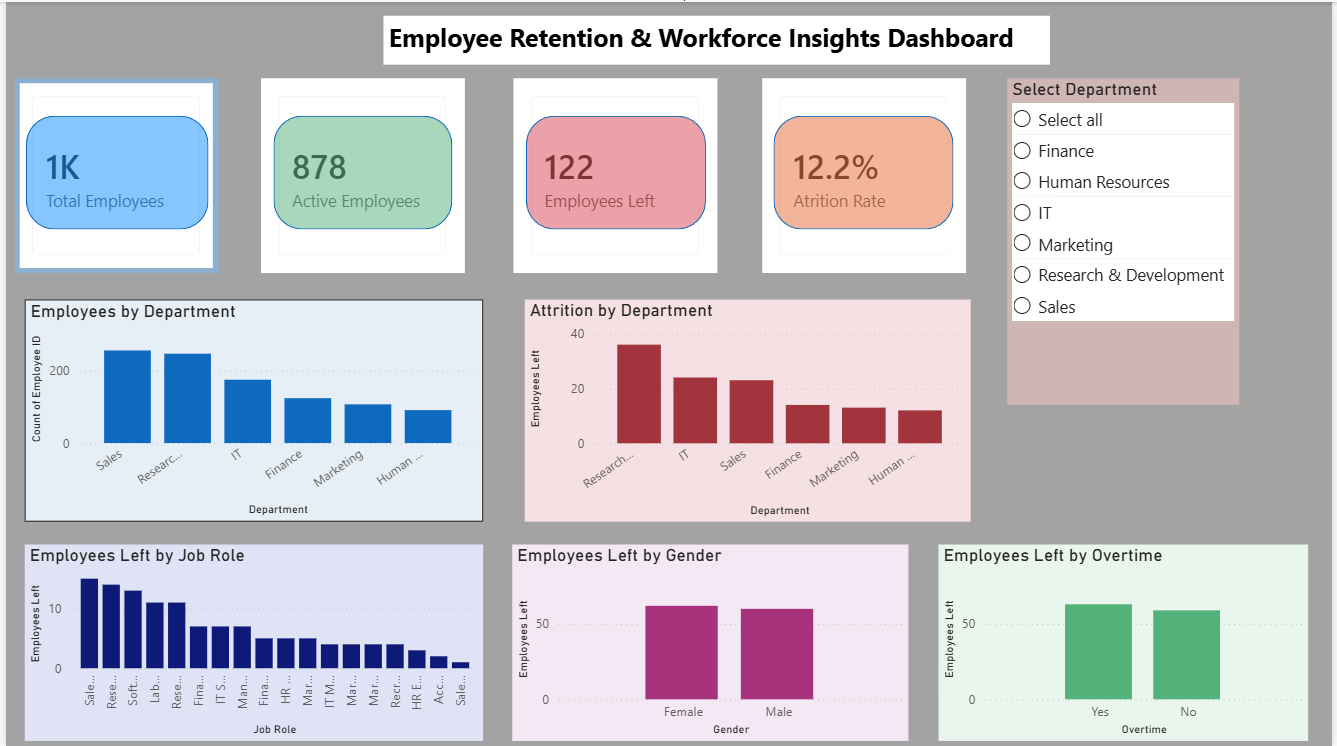

Layout of this report page (visuals, bound fields, positions):
{"tool":"powerbi","page":{"name":"Page 1","canvas":[1280,720],"ordinal":0},"visuals":[{"type":"cardVisual","fields":{"Data":["Sheet1.Total Employees"]},"box":[8.4,73.6,196.6,188.2],"z":0},{"type":"cardVisual","fields":{"Data":["Sheet1.Active Employees"]},"box":[246.1,73.6,196.6,188.2],"z":1000},{"type":"cardVisual","fields":{"Data":["Sheet1.Employees Left"]},"box":[489.8,73.6,196.6,188.2],"z":2000},{"type":"cardVisual","fields":{"Data":["Sheet1.Atrition Rate"]},"box":[729.9,73.6,196.6,188.2],"z":3000},{"type":"clusteredColumnChart","title":"Employees  by Department","fields":{"Category":["Sheet1.Department"],"Y":["CountNonNull(Sheet1.Employee ID)"]},"box":[18.1,287.1,442.8,214.7],"z":4000},{"type":"clusteredColumnChart","title":"Attrition by Department","fields":{"Category":["Sheet1.Department"],"Y":["Sheet1.Employees Left"]},"box":[500.7,287.1,430.7,214.7],"z":5000},{"type":"clusteredColumnChart","fields":{"Category":["Sheet1.Job Role"],"Y":["Sheet1.Employees Left"]},"box":[18.1,523.6,442.8,189.4],"z":6000},{"type":"clusteredColumnChart","fields":{"Category":["Sheet1.Gender"],"Y":["Sheet1.Employees Left"]},"box":[488.6,523.6,382.4,189.4],"z":7000},{"type":"clusteredColumnChart","fields":{"Category":["Sheet1.Overtime"],"Y":["Sheet1.Employees Left"]},"box":[900,523.6,357.1,189.4],"z":8000},{"type":"textbox","box":[405.4,8.4,622.5,47.1],"z":9000},{"type":"listSlicer","title":" Select Department","fields":{"Values":["Sheet1.Department"]},"box":[966.4,73.6,224.4,314.9],"z":10000},{"type":"shape","box":[19.3,109.8,176.1,109.8],"z":11000},{"type":"shape","box":[258.2,109.8,172.5,109.8],"z":11001},{"type":"shape","box":[501.9,109.8,173.7,109.8],"z":11002},{"type":"shape","box":[740.8,109.8,173.7,109.8],"z":11003}]}

Visuals, with their boxes in screenshot pixels (x1, y1, x2, y2), scaled from the page's 1280x720 canvas onto the 1337x746 screenshot:
cardVisual - Sheet1.Total Employees: [x1=9, y1=76, x2=214, y2=271]
cardVisual - Sheet1.Active Employees: [x1=257, y1=76, x2=462, y2=271]
cardVisual - Sheet1.Employees Left: [x1=512, y1=76, x2=717, y2=271]
cardVisual - Sheet1.Atrition Rate: [x1=762, y1=76, x2=968, y2=271]
"Employees  by Department" clusteredColumnChart: [x1=19, y1=297, x2=481, y2=520]
"Attrition by Department" clusteredColumnChart: [x1=523, y1=297, x2=973, y2=520]
clusteredColumnChart - Sheet1.Job Role x Sheet1.Employees Left: [x1=19, y1=543, x2=481, y2=739]
clusteredColumnChart - Sheet1.Gender x Sheet1.Employees Left: [x1=510, y1=543, x2=910, y2=739]
clusteredColumnChart - Sheet1.Overtime x Sheet1.Employees Left: [x1=940, y1=543, x2=1313, y2=739]
textbox: [x1=423, y1=9, x2=1074, y2=58]
" Select Department" listSlicer: [x1=1009, y1=76, x2=1244, y2=403]
shape: [x1=20, y1=114, x2=204, y2=228]
shape: [x1=270, y1=114, x2=450, y2=228]
shape: [x1=524, y1=114, x2=706, y2=228]
shape: [x1=774, y1=114, x2=955, y2=228]
